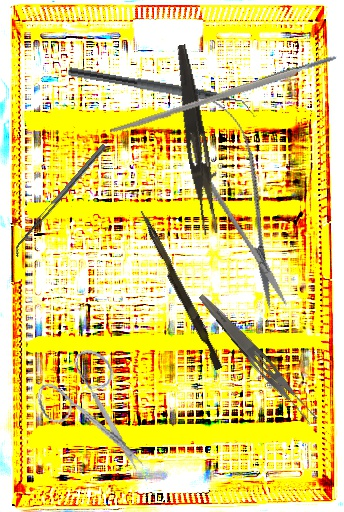Chopper: (65, 67, 260, 119)
Dressing Forceps: (192, 291, 321, 427), (166, 43, 226, 236)
Iris Scissors: (26, 340, 168, 474)
Micro Scissor: (171, 79, 307, 319)
Pusher: (133, 209, 227, 371)
Scalpel Handle: (109, 53, 339, 137)
Spatula Surgical: (10, 143, 111, 258)
